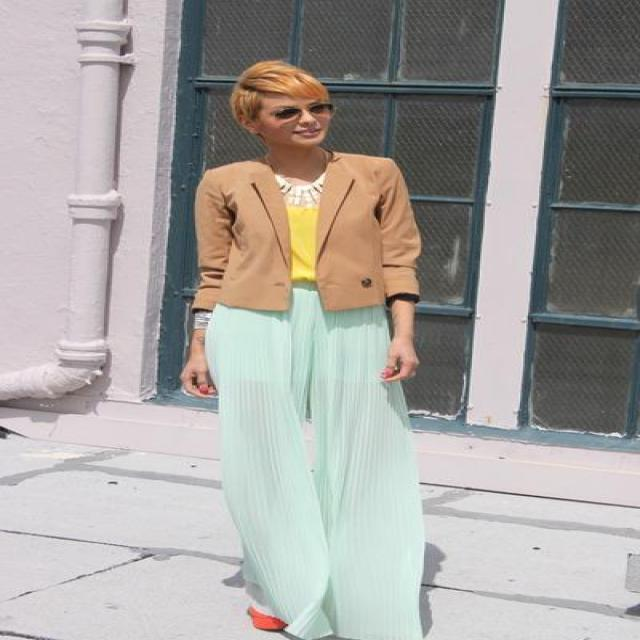jacket: (190, 152, 421, 319)
shirt: (275, 174, 325, 278)
shoe: (248, 609, 288, 637)
skirt: (195, 294, 440, 639)
sunglass: (275, 104, 325, 118)
